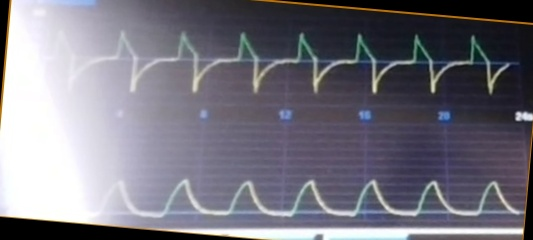Normal Flow: (39, 25, 510, 98)
Normal Volume: (77, 162, 521, 222)
